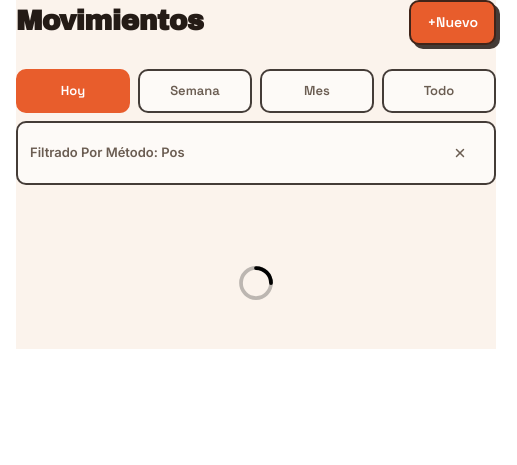
Test: MovementsPage M-8: drill-down from Reports via query params › clicking the chip's remove button clears the method filter and re-fetches unscoped
The image size is (517, 465).
Expected: the text "Filtrado por método: pos" is shown, [30,143,184,163]
What coordinates should you click on to do the following:
click the button named "quitar filtro de método"
I would click on:
 (460, 153)
Its box is [438,131,482,175].
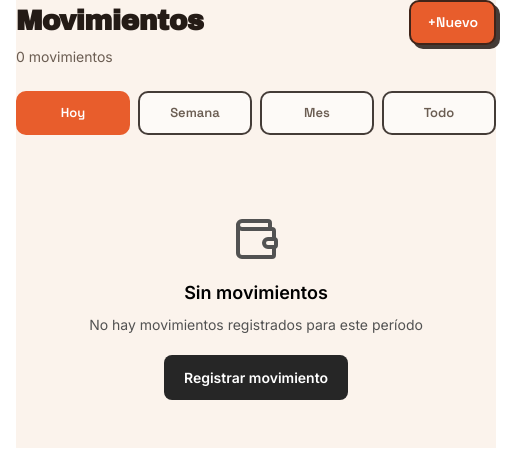
Expected: the text "Filtrado por método" is gone
